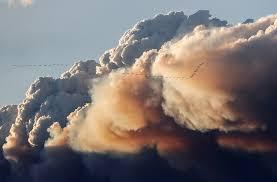yanwu: (2, 4, 277, 157)
